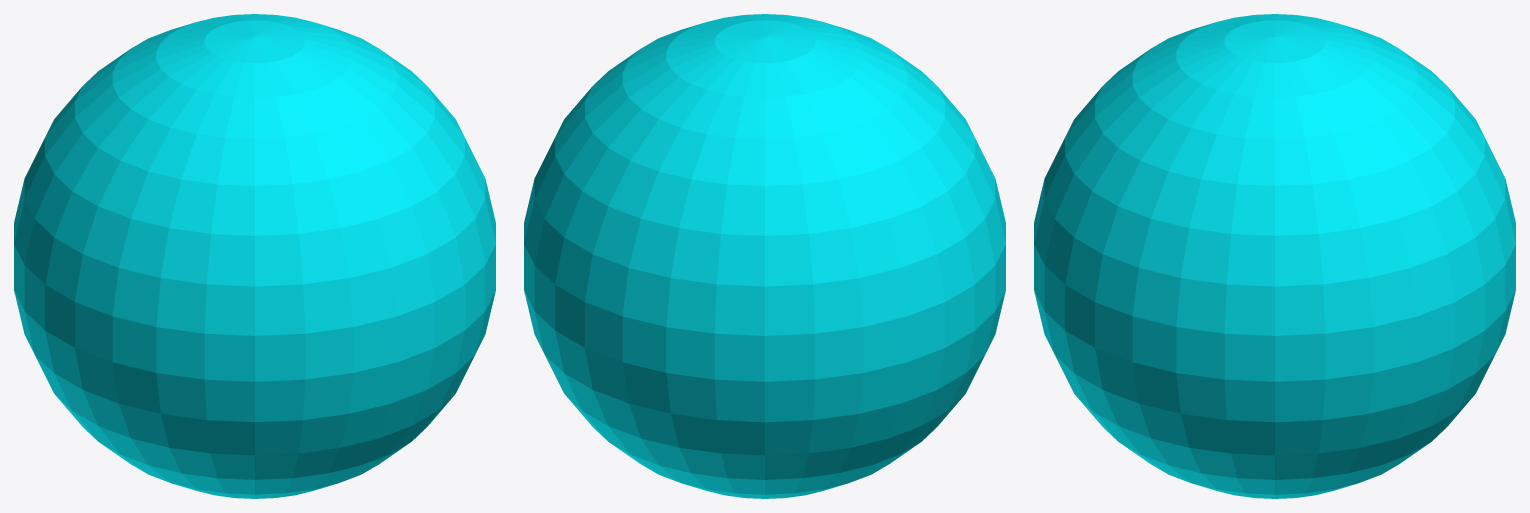
Rendered from modelrevolvingpalms.obj.
3 renders of one model, left to right at view 1: azimuth 30°, elevation 25°; view 2: azimuth 150°, elevation 25°; view 3: azimuth 270°, elevation 25°, orthographic.
Parts seen in each view (by area): view 1: sphere; view 2: sphere; view 3: sphere.
Boxes of the visible parts, left/top/right/bottom form: sphere: left=14, top=14, right=495, bottom=498; sphere: left=524, top=14, right=1005, bottom=498; sphere: left=1034, top=14, right=1515, bottom=498.
Size of the model in its own units: 7.81 by 7.81 by 7.77.
